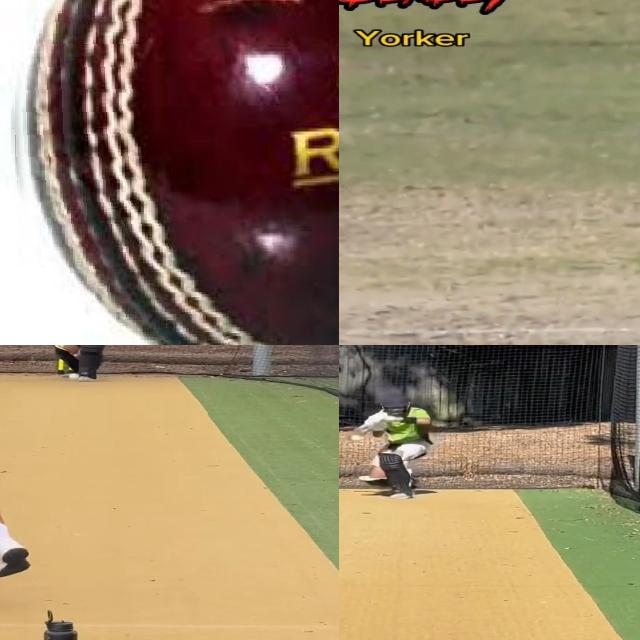Cricket ball: (3, 0, 339, 345), (67, 372, 82, 382), (349, 434, 364, 442)
